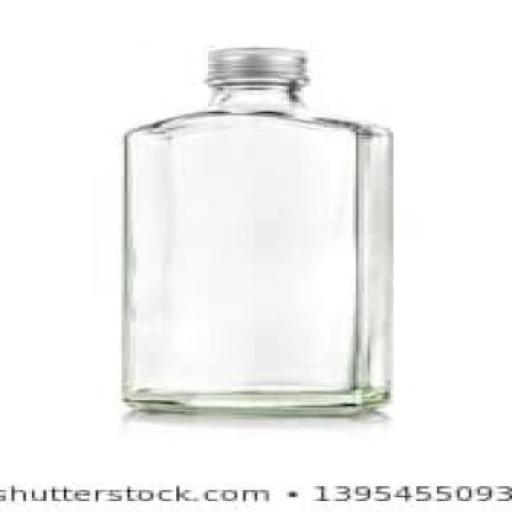glass: (118, 74, 388, 412)
metal: (197, 48, 304, 86)
